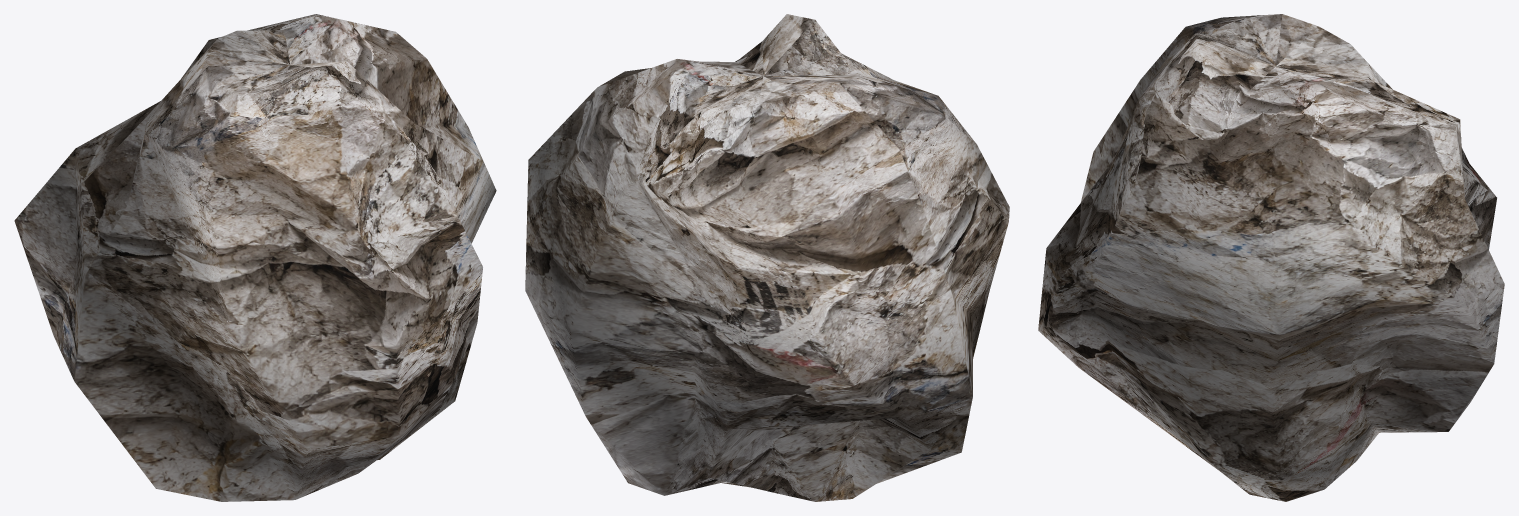
File: PaperCrushed.fbx
3 renders of one model, left to right at view 1: azimuth 30°, elevation 25°; view 2: azimuth 150°, elevation 25°; view 3: azimuth 270°, elevation 25°, orthographic. The views are drawn at different scales.
Visible parts, largest first — view 1: Sphere; view 2: Sphere; view 3: Sphere.
Part boxes in pixels (x1=…): Sphere: x1=14, y1=14, x2=496, y2=501; Sphere: x1=525, y1=14, x2=1009, y2=501; Sphere: x1=1038, y1=14, x2=1504, y2=501.
Size of the model in its own units: 177 by 175 by 174.
